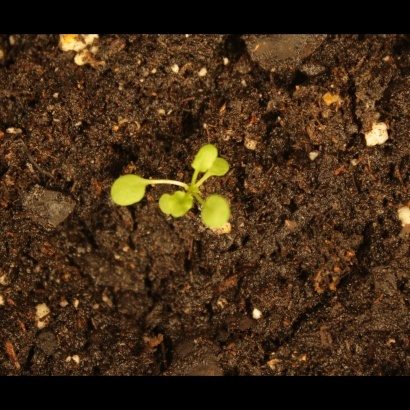leaf: (105, 171, 150, 211), (196, 193, 232, 231), (158, 186, 196, 222), (190, 140, 221, 173), (208, 155, 234, 181)
